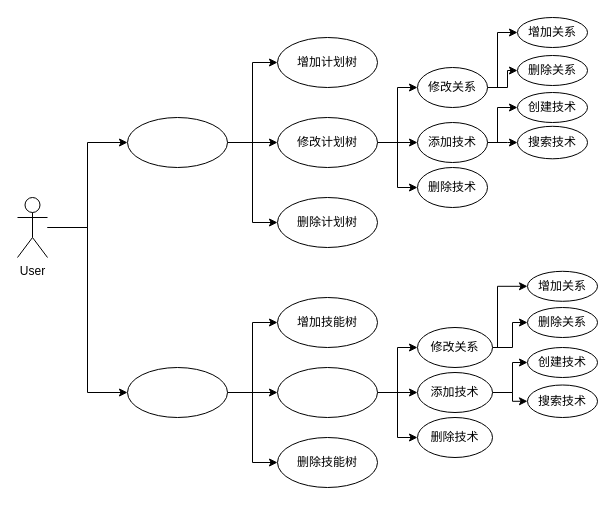
The diagram is 615 pixels wide and 505 high, and some of its shapes have lost their labels. The box of each missing label's shape, as (x1, y1, x2, y2) in pixels:
修改技能树: (276, 366, 378, 418)
查看技能树: (126, 366, 228, 418)
查看计划树: (126, 116, 228, 168)
